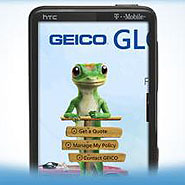geico: (48, 33, 109, 46)
